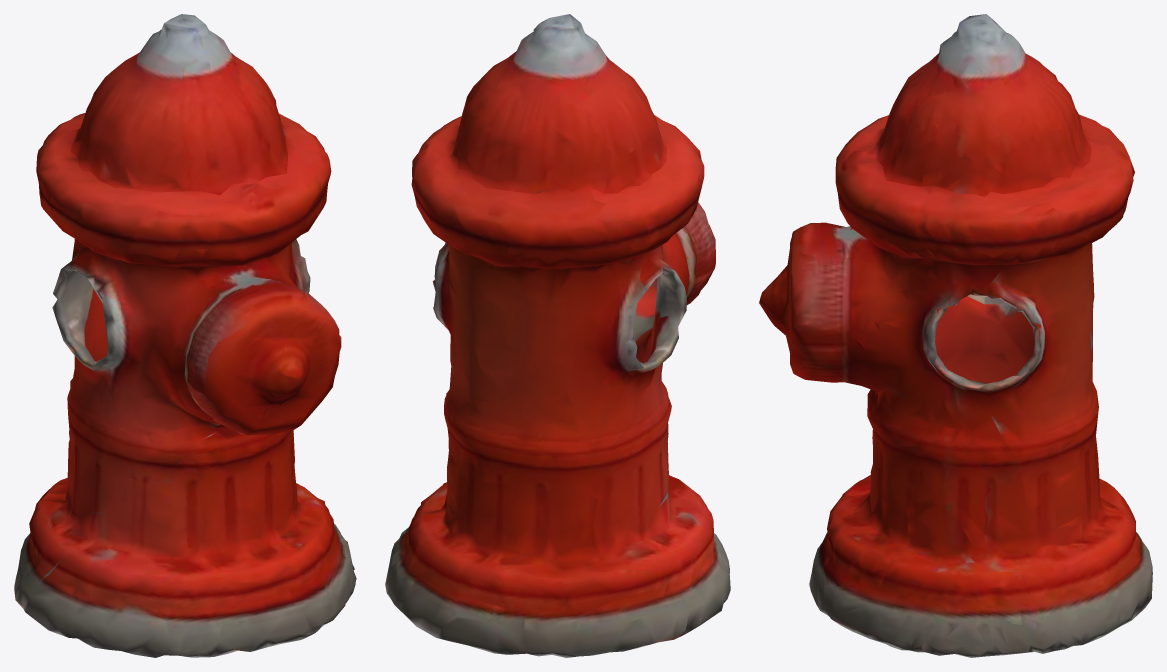
Rendered from prop_fire_hydrant.glb.
3 renders of one model, left to right at view 1: azimuth 30°, elevation 25°; view 2: azimuth 150°, elevation 25°; view 3: azimuth 270°, elevation 25°, orthographic.
Parts seen in each view (by area): view 1: geometry_0; view 2: geometry_0; view 3: geometry_0.
Part boxes in pixels (x1,y1,x2,y2): geometry_0: (14, 14, 356, 657); geometry_0: (385, 14, 730, 657); geometry_0: (759, 14, 1152, 657).
Size of the model in its own units: 0.6628 by 1.2 by 0.7579.
Materials: 1 (1 with a texture image).
